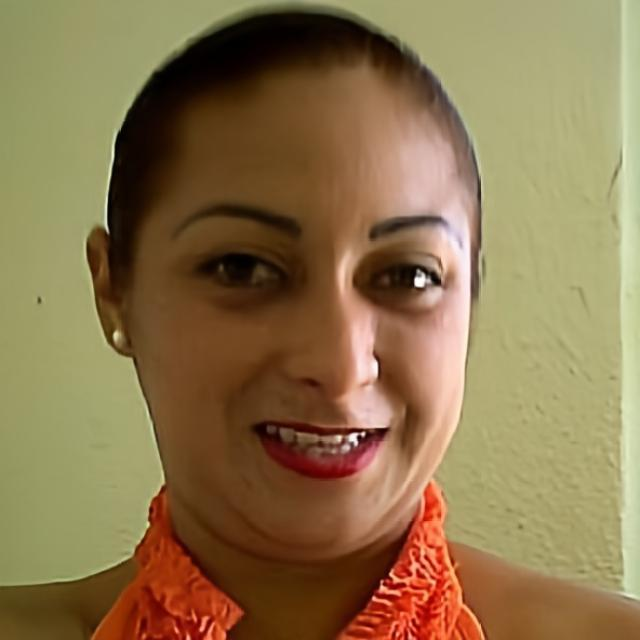happy: (130, 74, 470, 554)
